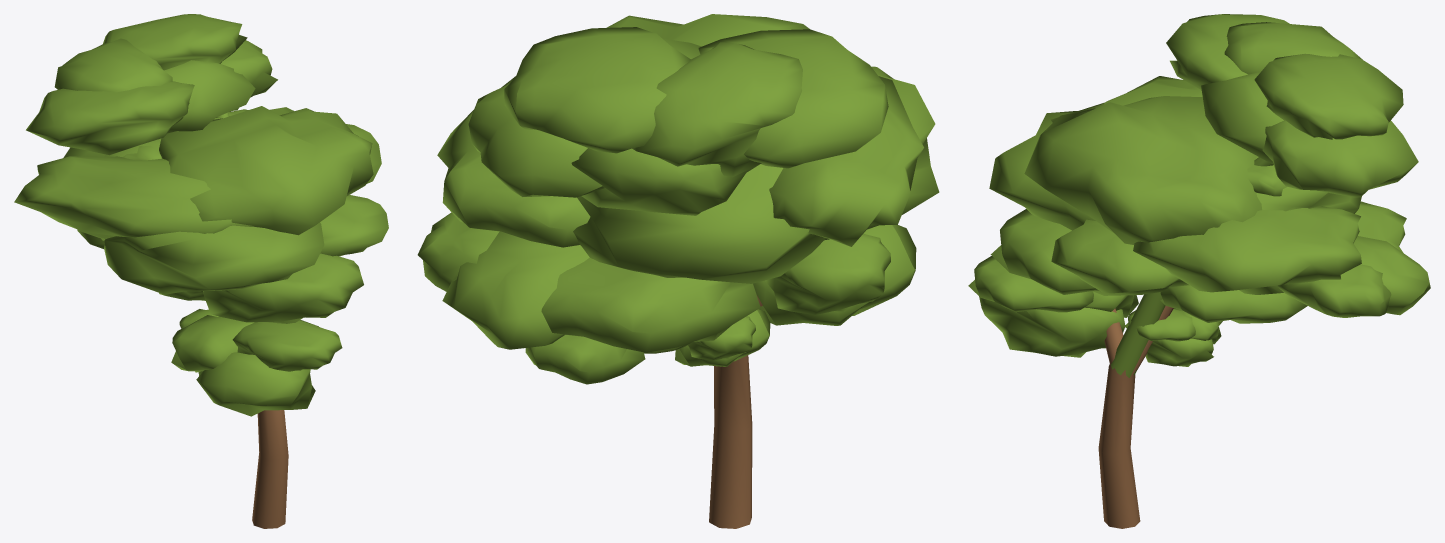
File: C_tree_2.fbx
3 renders of one model, left to right at view 1: azimuth 30°, elevation 25°; view 2: azimuth 150°, elevation 25°; view 3: azimuth 270°, elevation 25°, orthographic. The views are drawn at different scales.
Parts seen in each view (by area): view 1: tree.002; view 2: tree.002; view 3: tree.002.
Boxes of the visible parts, box(x1,y1,x2,y2) form: tree.002: box(14, 14, 388, 528); tree.002: box(417, 14, 939, 528); tree.002: box(968, 14, 1430, 528).
Size of the model in its own units: 2041 by 2203 by 1899.
